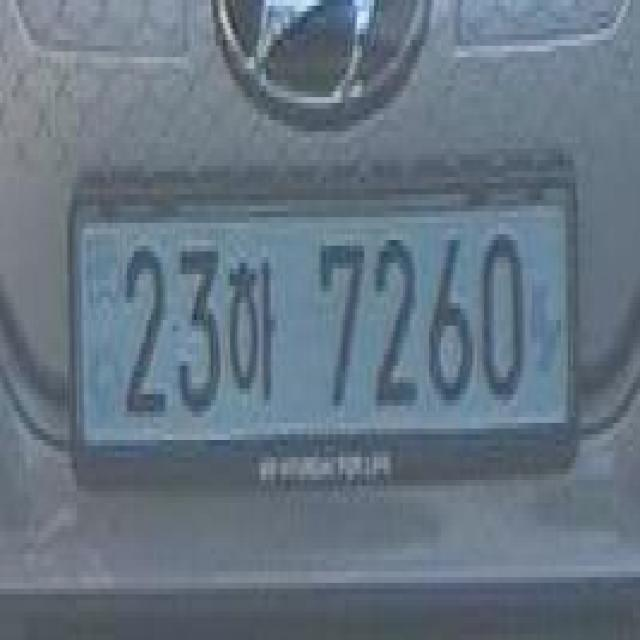EV_plate: (69, 167, 584, 510)
